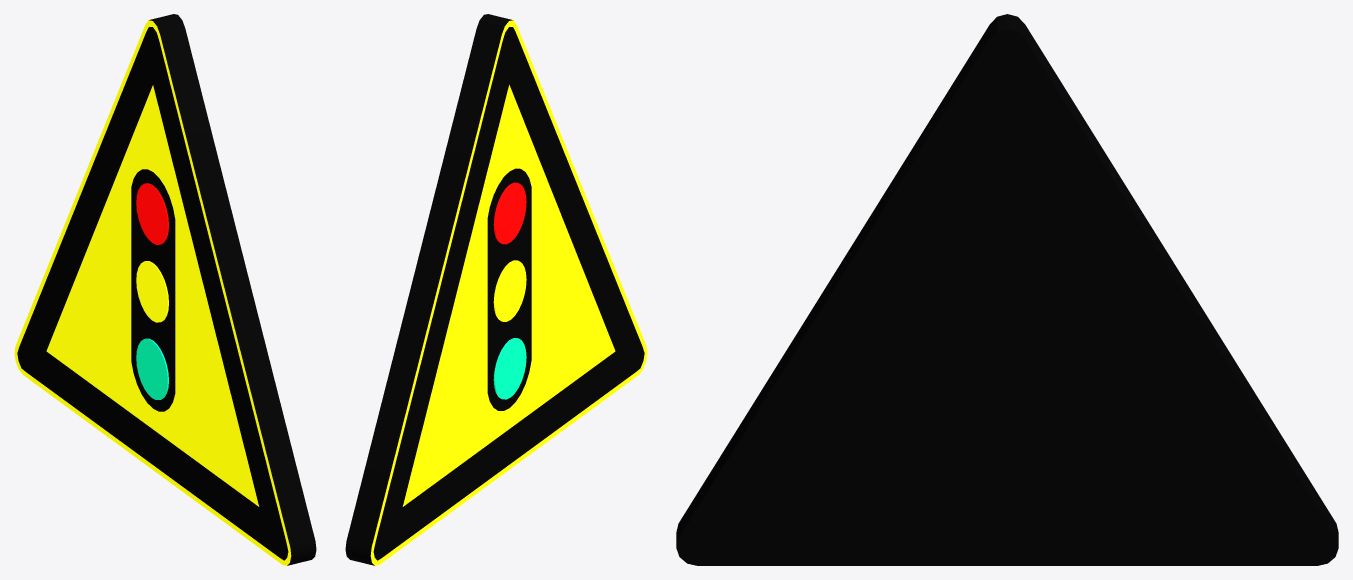
The model's file is Attention_Signal.glb.
The picture shows the model from 3 angles, left to right: view 1: azimuth 30°, elevation 25°; view 2: azimuth 150°, elevation 25°; view 3: azimuth 270°, elevation 25°; orthographic projection. The views are drawn at different scales.
Visible parts, largest first — view 1: Attention_Signal; view 2: Attention_Signal; view 3: Attention_Signal.
Boxes of the visible parts, bbox=[...] form: Attention_Signal: bbox=[14, 14, 316, 565]; Attention_Signal: bbox=[345, 14, 647, 565]; Attention_Signal: bbox=[676, 14, 1338, 565].
Bounding box in the file's own units: 0.063 × 1.02 × 1.14.
